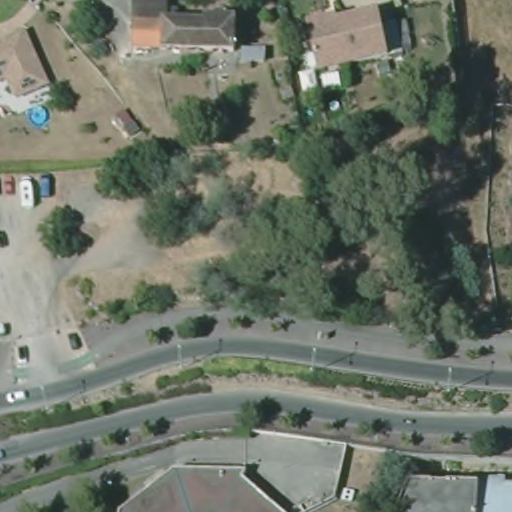pool: (28, 105, 52, 126)
